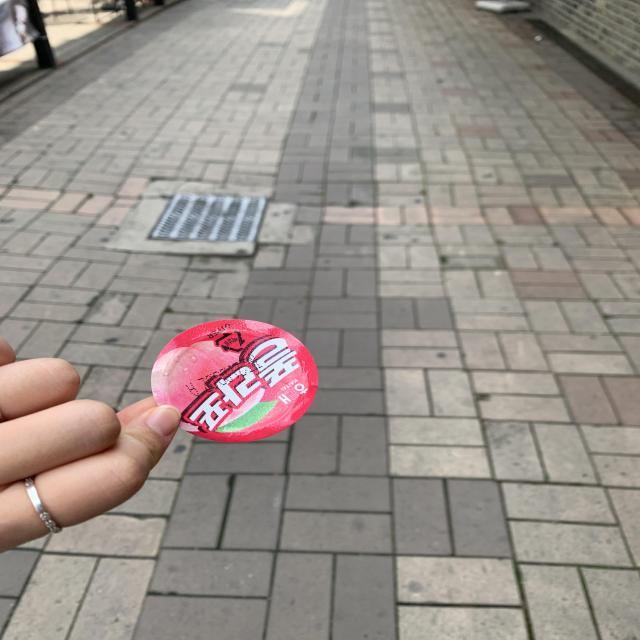litter: (150, 321, 316, 442)
